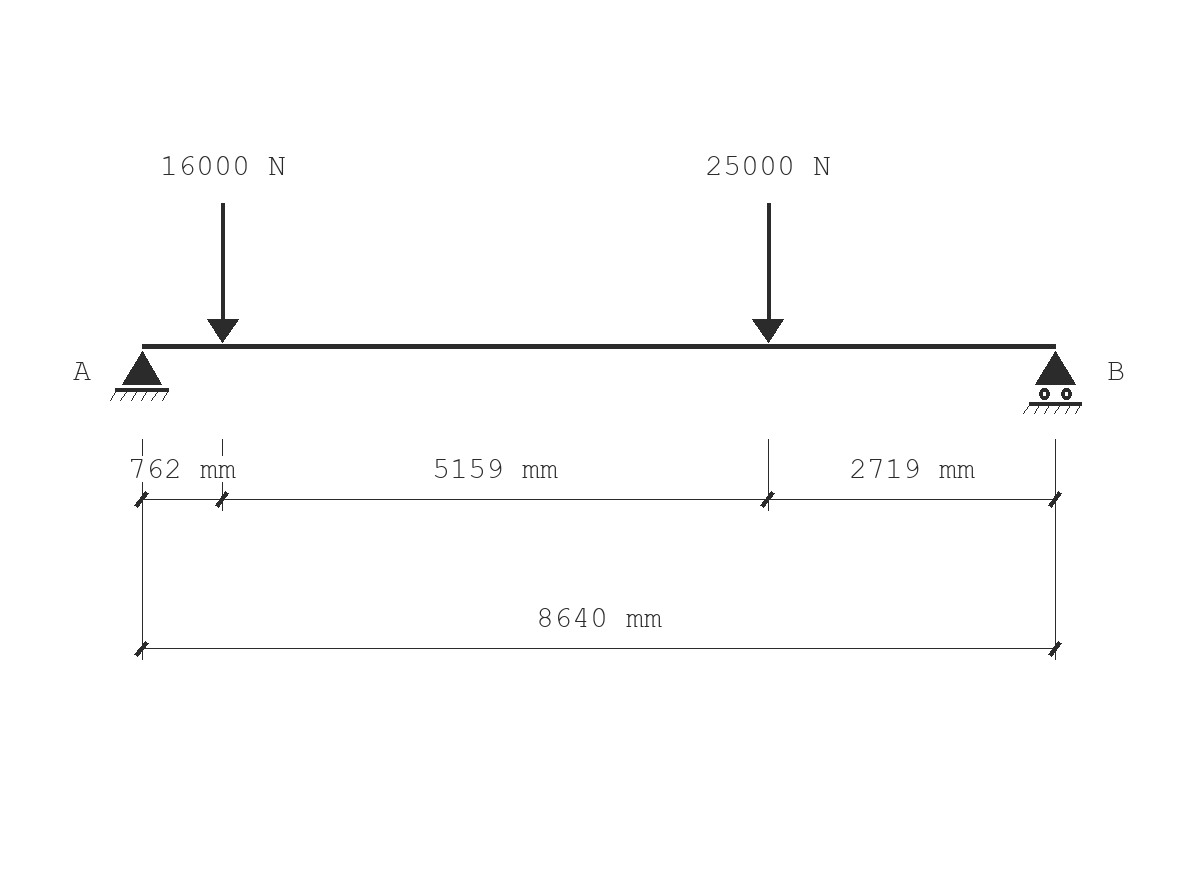pin_support: (110, 351, 169, 401)
point_load: (207, 203, 239, 343), (752, 203, 784, 343)
roller_support: (1023, 351, 1082, 414)
